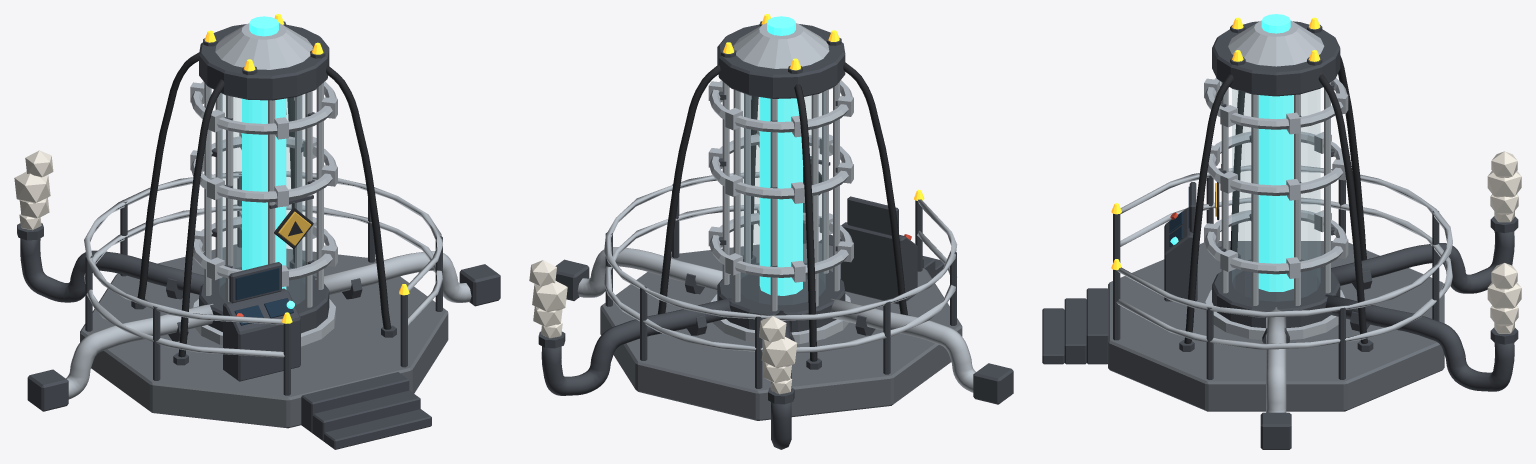
The model's file is energy-reactor-core.glb.
3 renders of one model, left to right at view 1: azimuth 30°, elevation 25°; view 2: azimuth 150°, elevation 25°; view 3: azimuth 270°, elevation 25°, orthographic. The views are drawn at different scales.
Visible parts, largest first — view 1: Platform, Core_Glass, Plasma_Column, Core_TopCap, ControlPanel, Pipe_4, Rail_Top, Rail_Mid, Core_TopDome, Pipe_2, Ring_Middle, Pipe_1 (+29 smaller); view 2: Platform, Core_Glass, Plasma_Column, Core_TopCap, Pipe_3, ControlPanel, Rail_Top, Core_BaseCap, Rail_Mid, Core_TopDome, Pipe_2, Ring_Lower (+27 smaller); view 3: Platform, Core_Glass, Plasma_Column, Core_TopCap, Pipe_3, Core_BaseCap, Rail_Top, Rail_Mid, Pipe_4, Ring_Lower, Ring_Middle, Core_TopDome (+26 smaller).
Part boxes in pixels (x1,y1,x2,y2): Platform: [80, 244, 448, 428]; Core_Glass: [219, 93, 304, 304]; Plasma_Column: [242, 98, 286, 289]; Core_TopCap: [199, 24, 329, 100]; ControlPanel: [223, 288, 300, 381]; Pipe_4: [20, 238, 212, 302]; Rail_Top: [84, 171, 442, 324]; Rail_Mid: [84, 204, 442, 357]; Core_TopDome: [215, 23, 312, 69]; Pipe_2: [66, 303, 213, 399]; Ring_Middle: [190, 132, 337, 207]; Pipe_1: [315, 251, 471, 302]; Platform: [600, 243, 962, 420]; Core_Glass: [741, 91, 825, 304]; Plasma_Column: [759, 97, 802, 295]; Core_TopCap: [717, 24, 845, 98]; Pipe_3: [541, 298, 731, 395]; ControlPanel: [841, 222, 917, 304]; Rail_Top: [604, 171, 957, 320]; Core_BaseCap: [717, 262, 845, 332]; Rail_Mid: [604, 204, 957, 352]; Core_TopDome: [733, 23, 829, 68]; Pipe_2: [830, 298, 975, 392]; Ring_Lower: [708, 207, 853, 282]; Platform: [1108, 241, 1444, 411]; Core_Glass: [1232, 89, 1320, 300]; Plasma_Column: [1258, 95, 1293, 291]; Core_TopCap: [1212, 21, 1340, 96]; Pipe_3: [1325, 294, 1514, 391]; Core_BaseCap: [1212, 259, 1340, 328]; Rail_Top: [1117, 165, 1452, 317]; Rail_Mid: [1116, 197, 1452, 349]; Pipe_4: [1331, 231, 1514, 293]; Ring_Lower: [1204, 210, 1348, 278]; Ring_Middle: [1207, 131, 1345, 200]; Core_TopDome: [1228, 20, 1324, 66].
Bounding box in the file's own units: 23.4 × 16 × 21.62.
